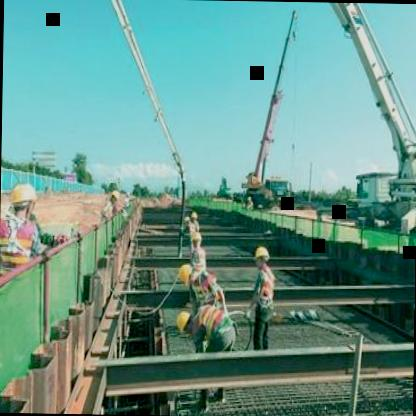helmet: (7, 179, 38, 225), (173, 261, 198, 287), (251, 244, 272, 271), (176, 308, 194, 334), (190, 230, 204, 250)
